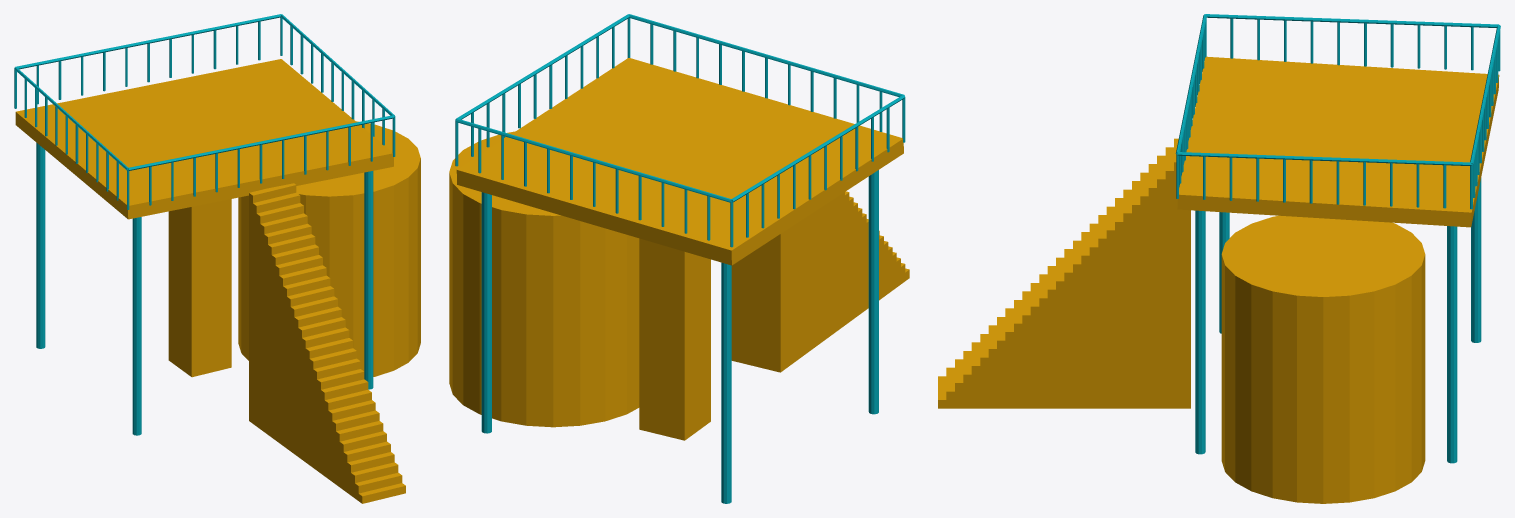
File: folie_tag_084.glb
The picture shows the model from 3 angles, left to right: view 1: azimuth 30°, elevation 25°; view 2: azimuth 150°, elevation 25°; view 3: azimuth 270°, elevation 25°; orthographic projection. The views are drawn at different scales.
Visible parts, largest first — view 1: folie_tag_084_00_plate, folie_tag_084_stairs, folie_tag_084_01_drum, folie_tag_084_line, folie_tag_084_core; view 2: folie_tag_084_00_plate, folie_tag_084_01_drum, folie_tag_084_line, folie_tag_084_stairs, folie_tag_084_core; view 3: folie_tag_084_01_drum, folie_tag_084_00_plate, folie_tag_084_stairs, folie_tag_084_line.
Part boxes in pixels (x1,y1,x2,y2): folie_tag_084_00_plate: [15, 59, 393, 219]; folie_tag_084_stairs: [249, 183, 405, 503]; folie_tag_084_01_drum: [238, 121, 420, 376]; folie_tag_084_line: [14, 14, 395, 435]; folie_tag_084_core: [168, 199, 231, 377]; folie_tag_084_00_plate: [456, 58, 903, 265]; folie_tag_084_01_drum: [449, 131, 639, 427]; folie_tag_084_line: [455, 14, 905, 503]; folie_tag_084_stairs: [731, 191, 909, 372]; folie_tag_084_core: [639, 238, 710, 440]; folie_tag_084_01_drum: [1221, 215, 1425, 503]; folie_tag_084_00_plate: [1177, 56, 1499, 227]; folie_tag_084_stairs: [938, 138, 1190, 408]; folie_tag_084_line: [1175, 14, 1500, 463].
Bounding box in the file's own units: 9.22 × 7.26 × 12.02.
